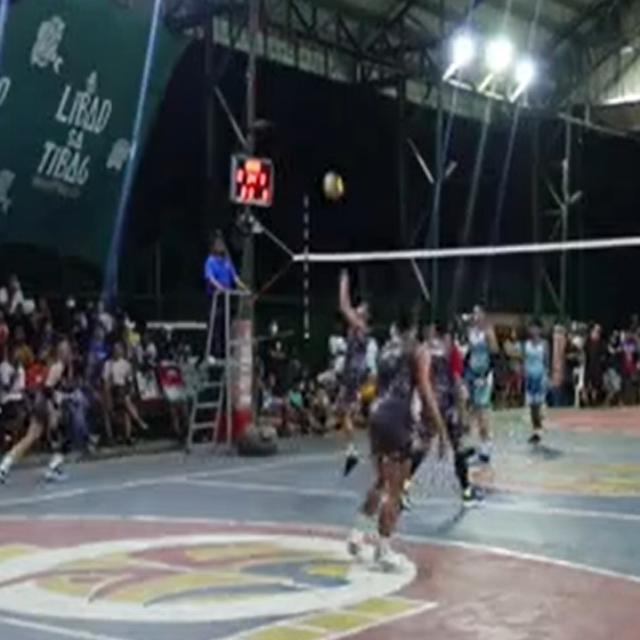volleyball: (322, 174, 342, 197)
